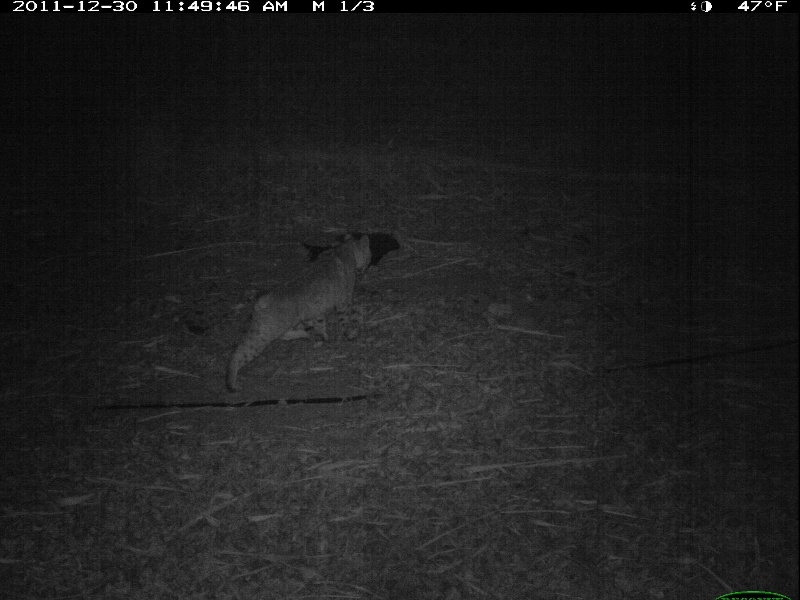cat: (219, 232, 373, 394)
